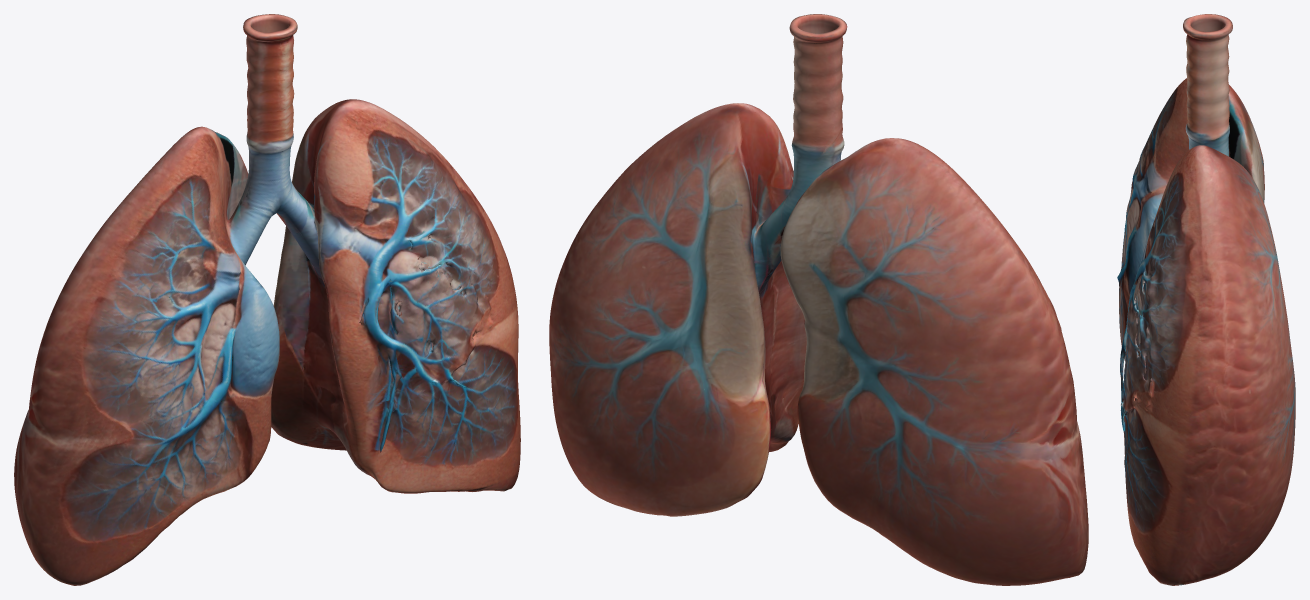
File: Lungs_Model.glb
The picture shows the model from 3 angles, left to right: view 1: azimuth 30°, elevation 25°; view 2: azimuth 150°, elevation 25°; view 3: azimuth 270°, elevation 25°; orthographic projection. The views are drawn at different scales.
Size of the model in its own units: 2 by 1.92 by 0.6734.
Materials: 1 (1 with a texture image).
